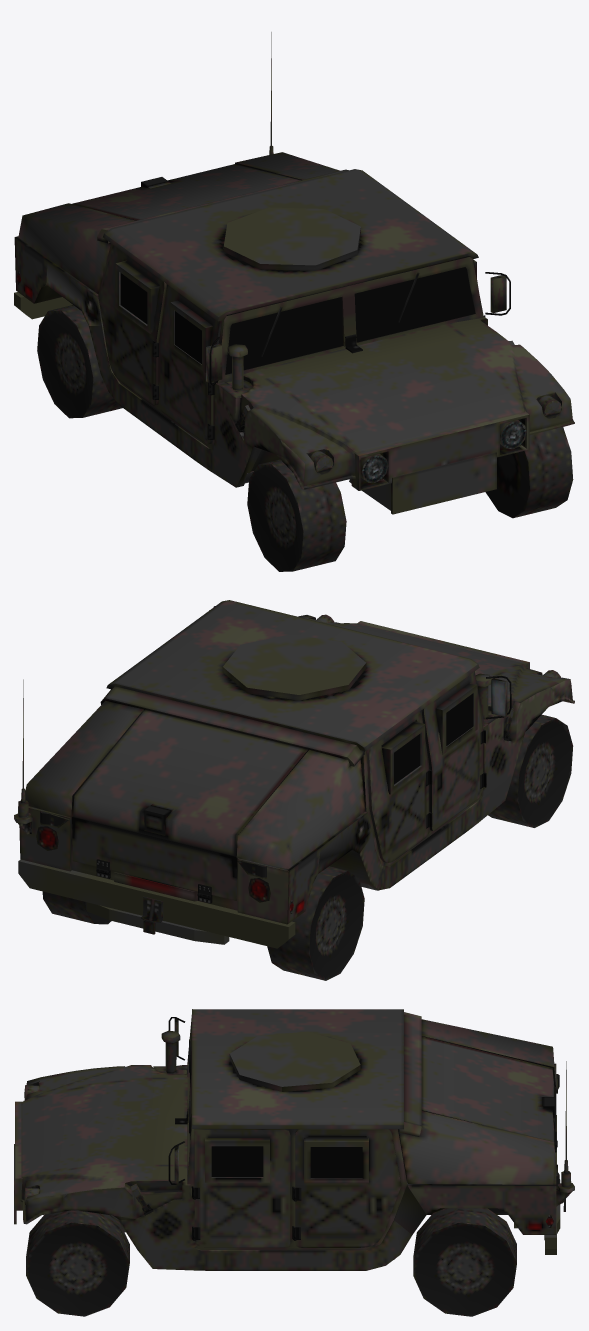
The model's file is hummer_army_hummer_top_d_0_lev1.glb.
3 views of the same model, one above another, from view 1: azimuth 30°, elevation 25°; view 2: azimuth 150°, elevation 25°; view 3: azimuth 270°, elevation 25° (orthographic). The views are drawn at different scales.
Parts seen in each view (by area): view 1: hummer_army_hummer_top_d_0_lev1; view 2: hummer_army_hummer_top_d_0_lev1; view 3: hummer_army_hummer_top_d_0_lev1.
Boxes of the visible parts, bbox=[...] form: hummer_army_hummer_top_d_0_lev1: bbox=[14, 32, 574, 571]; hummer_army_hummer_top_d_0_lev1: bbox=[14, 600, 574, 980]; hummer_army_hummer_top_d_0_lev1: bbox=[14, 1009, 574, 1316].
Size of the model in its own units: 1.75 by 1.65 by 3.07.
Materials: 1 (1 with a texture image).
